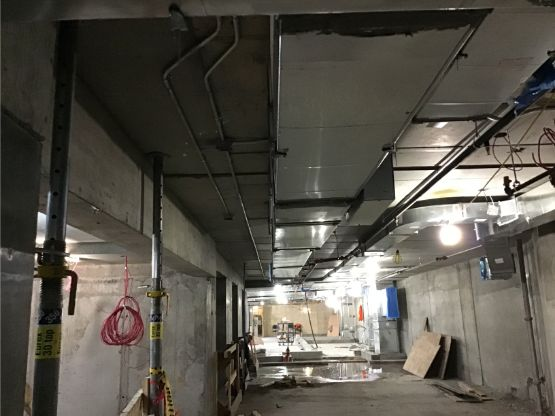Duct: (256, 1, 555, 289), (361, 280, 408, 359)
